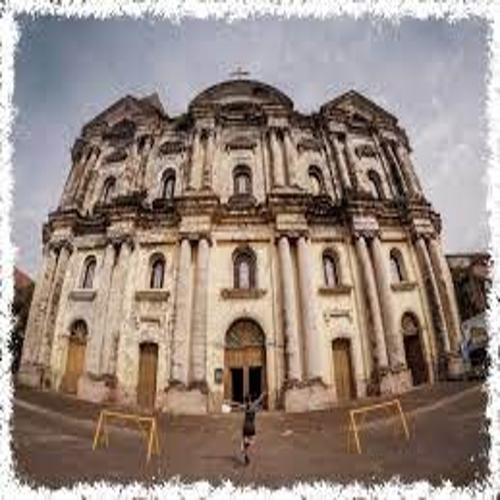Taal Basilica Church: (21, 58, 475, 412)
